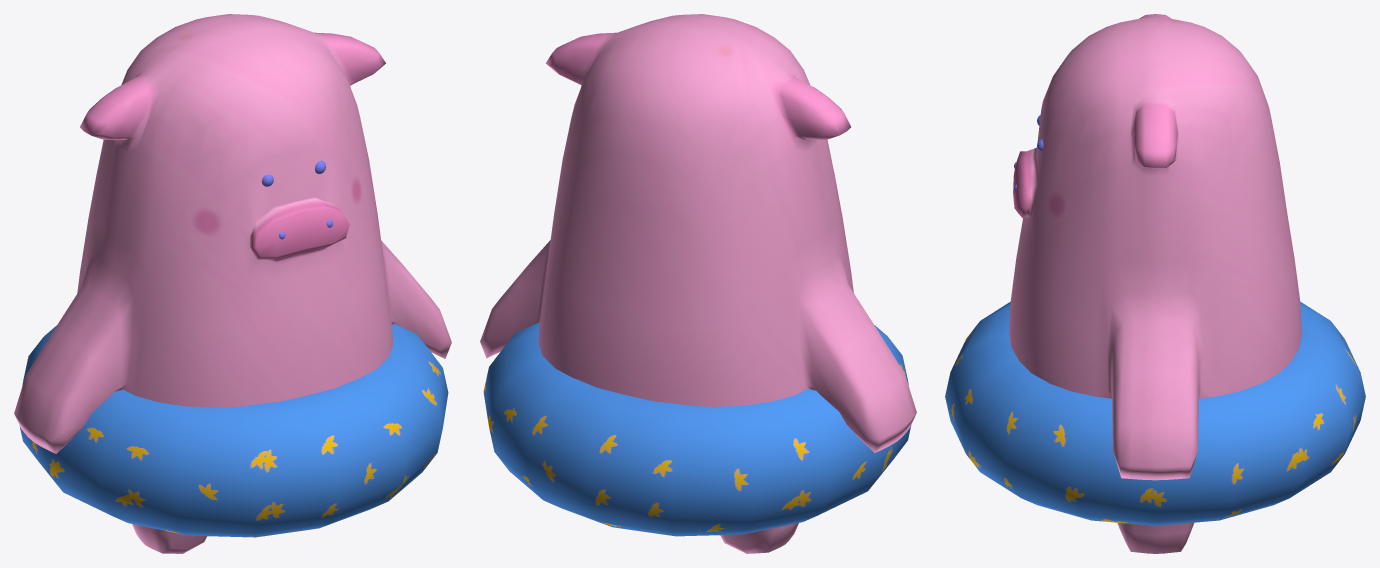
Rendered from pig.fbx.
3 views of the same model, side by side, from view 1: azimuth 30°, elevation 25°; view 2: azimuth 150°, elevation 25°; view 3: azimuth 270°, elevation 25° (orthographic). The views are drawn at different scales.
Parts seen in each view (by area): view 1: Piggy, Floatie; view 2: Piggy, Floatie; view 3: Piggy, Floatie.
Boxes of the visible parts, bbox=[...] form: Piggy: bbox=[14, 14, 451, 553]; Floatie: bbox=[19, 324, 448, 537]; Piggy: bbox=[480, 14, 916, 553]; Floatie: bbox=[483, 323, 911, 536]; Piggy: bbox=[1009, 14, 1301, 553]; Floatie: bbox=[945, 302, 1365, 525].
Bounding box in the file's own units: 1.46 × 1.71 × 1.33.
